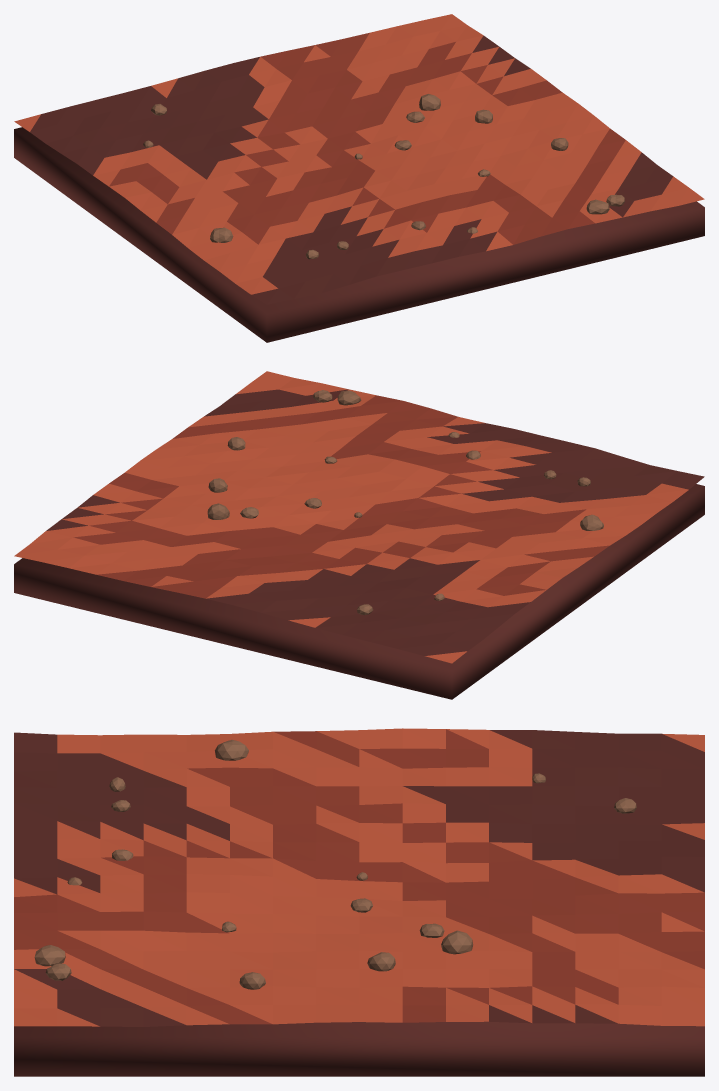
File: ground_red_earth.glb
3 renders of one model, top to bottom at view 1: azimuth 30°, elevation 25°; view 2: azimuth 150°, elevation 25°; view 3: azimuth 270°, elevation 25°, orthographic. The views are drawn at different scales.
Parts seen in each view (by area): view 1: main__earth_light_flat, main__earth_mid_flat, main__earth_dark_flat, main__earth_dark, main__earth_pebble_flat; view 2: main__earth_light_flat, main__earth_dark_flat, main__earth_mid_flat, main__earth_dark, main__earth_pebble_flat; view 3: main__earth_light_flat, main__earth_mid_flat, main__earth_dark_flat, main__earth_dark, main__earth_pebble_flat.
Boxes of the visible parts, bbox=[...] form: main__earth_light_flat: bbox=[14, 14, 704, 294]; main__earth_mid_flat: bbox=[109, 32, 625, 244]; main__earth_dark_flat: bbox=[30, 35, 673, 304]; main__earth_dark: bbox=[14, 127, 704, 342]; main__earth_pebble_flat: bbox=[143, 94, 624, 259]; main__earth_light_flat: bbox=[14, 371, 688, 663]; main__earth_dark_flat: bbox=[46, 389, 704, 655]; main__earth_mid_flat: bbox=[73, 395, 609, 598]; main__earth_dark: bbox=[14, 484, 704, 699]; main__earth_pebble_flat: bbox=[207, 390, 603, 615]; main__earth_light_flat: bbox=[14, 728, 704, 1026]; main__earth_mid_flat: bbox=[14, 729, 704, 1024]; main__earth_dark_flat: bbox=[14, 730, 704, 1026]; main__earth_dark: bbox=[14, 1021, 704, 1076]; main__earth_pebble_flat: bbox=[34, 739, 636, 989].
Size of the model in its own units: 8 by 0.8684 by 8.
